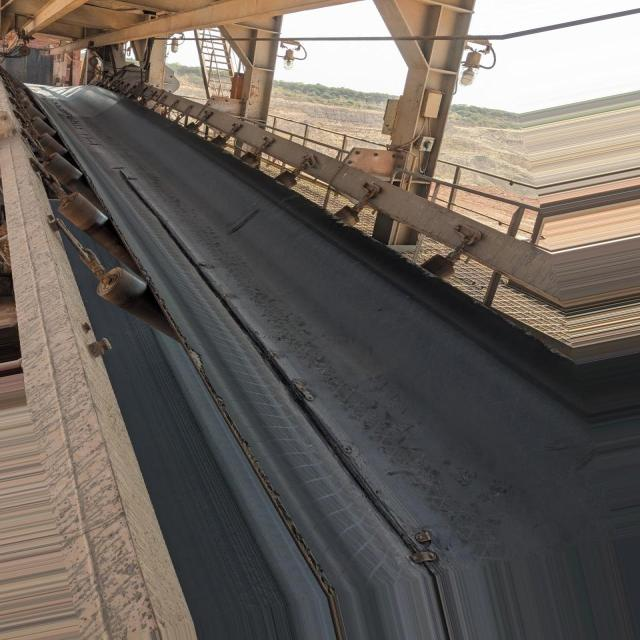Roller: (27, 123, 173, 335)
Tear: (111, 168, 431, 560)
